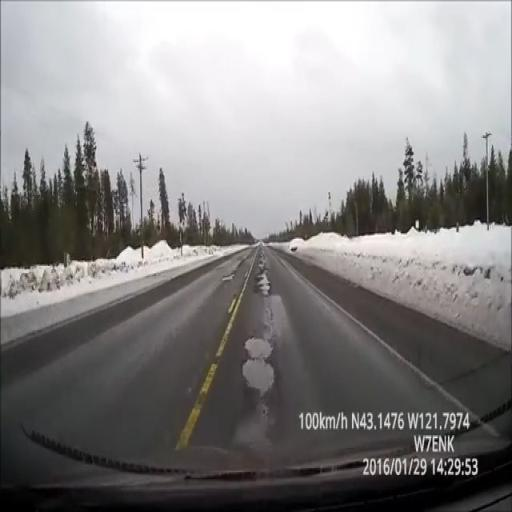Potholes: (228, 297, 278, 434)
